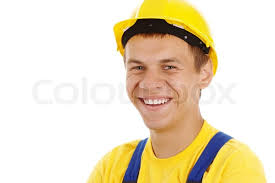Person_wearing_helmet: (107, 0, 217, 77)
